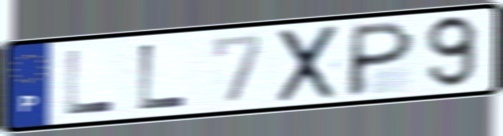7: (209, 32, 265, 106)
9: (423, 14, 482, 92)
L: (135, 41, 191, 113), (64, 47, 118, 117)
P: (342, 18, 418, 98)
X: (274, 22, 341, 106)
